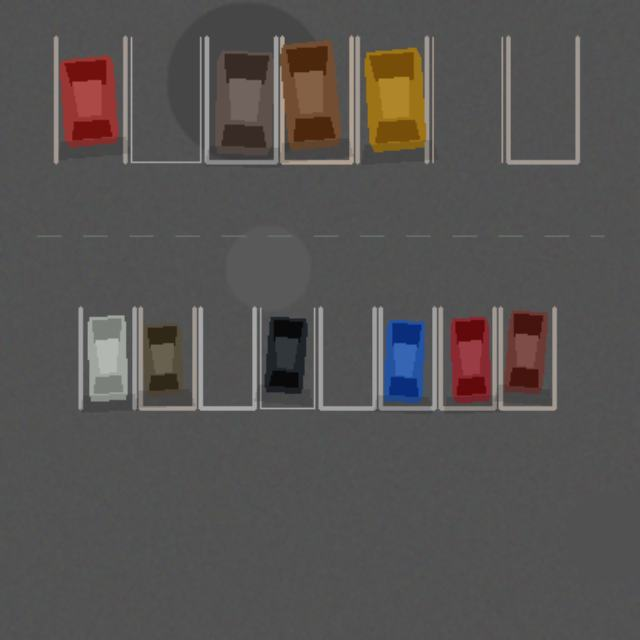space-empty: (432, 37, 502, 162), (131, 37, 200, 162), (508, 37, 577, 162), (200, 308, 254, 408), (320, 308, 374, 408)
space-occupied: (55, 37, 125, 162), (206, 37, 275, 162), (282, 37, 351, 162), (357, 37, 426, 162), (80, 308, 134, 408), (140, 308, 194, 408), (260, 308, 314, 408), (380, 308, 434, 408), (440, 308, 494, 408), (500, 308, 554, 408)
